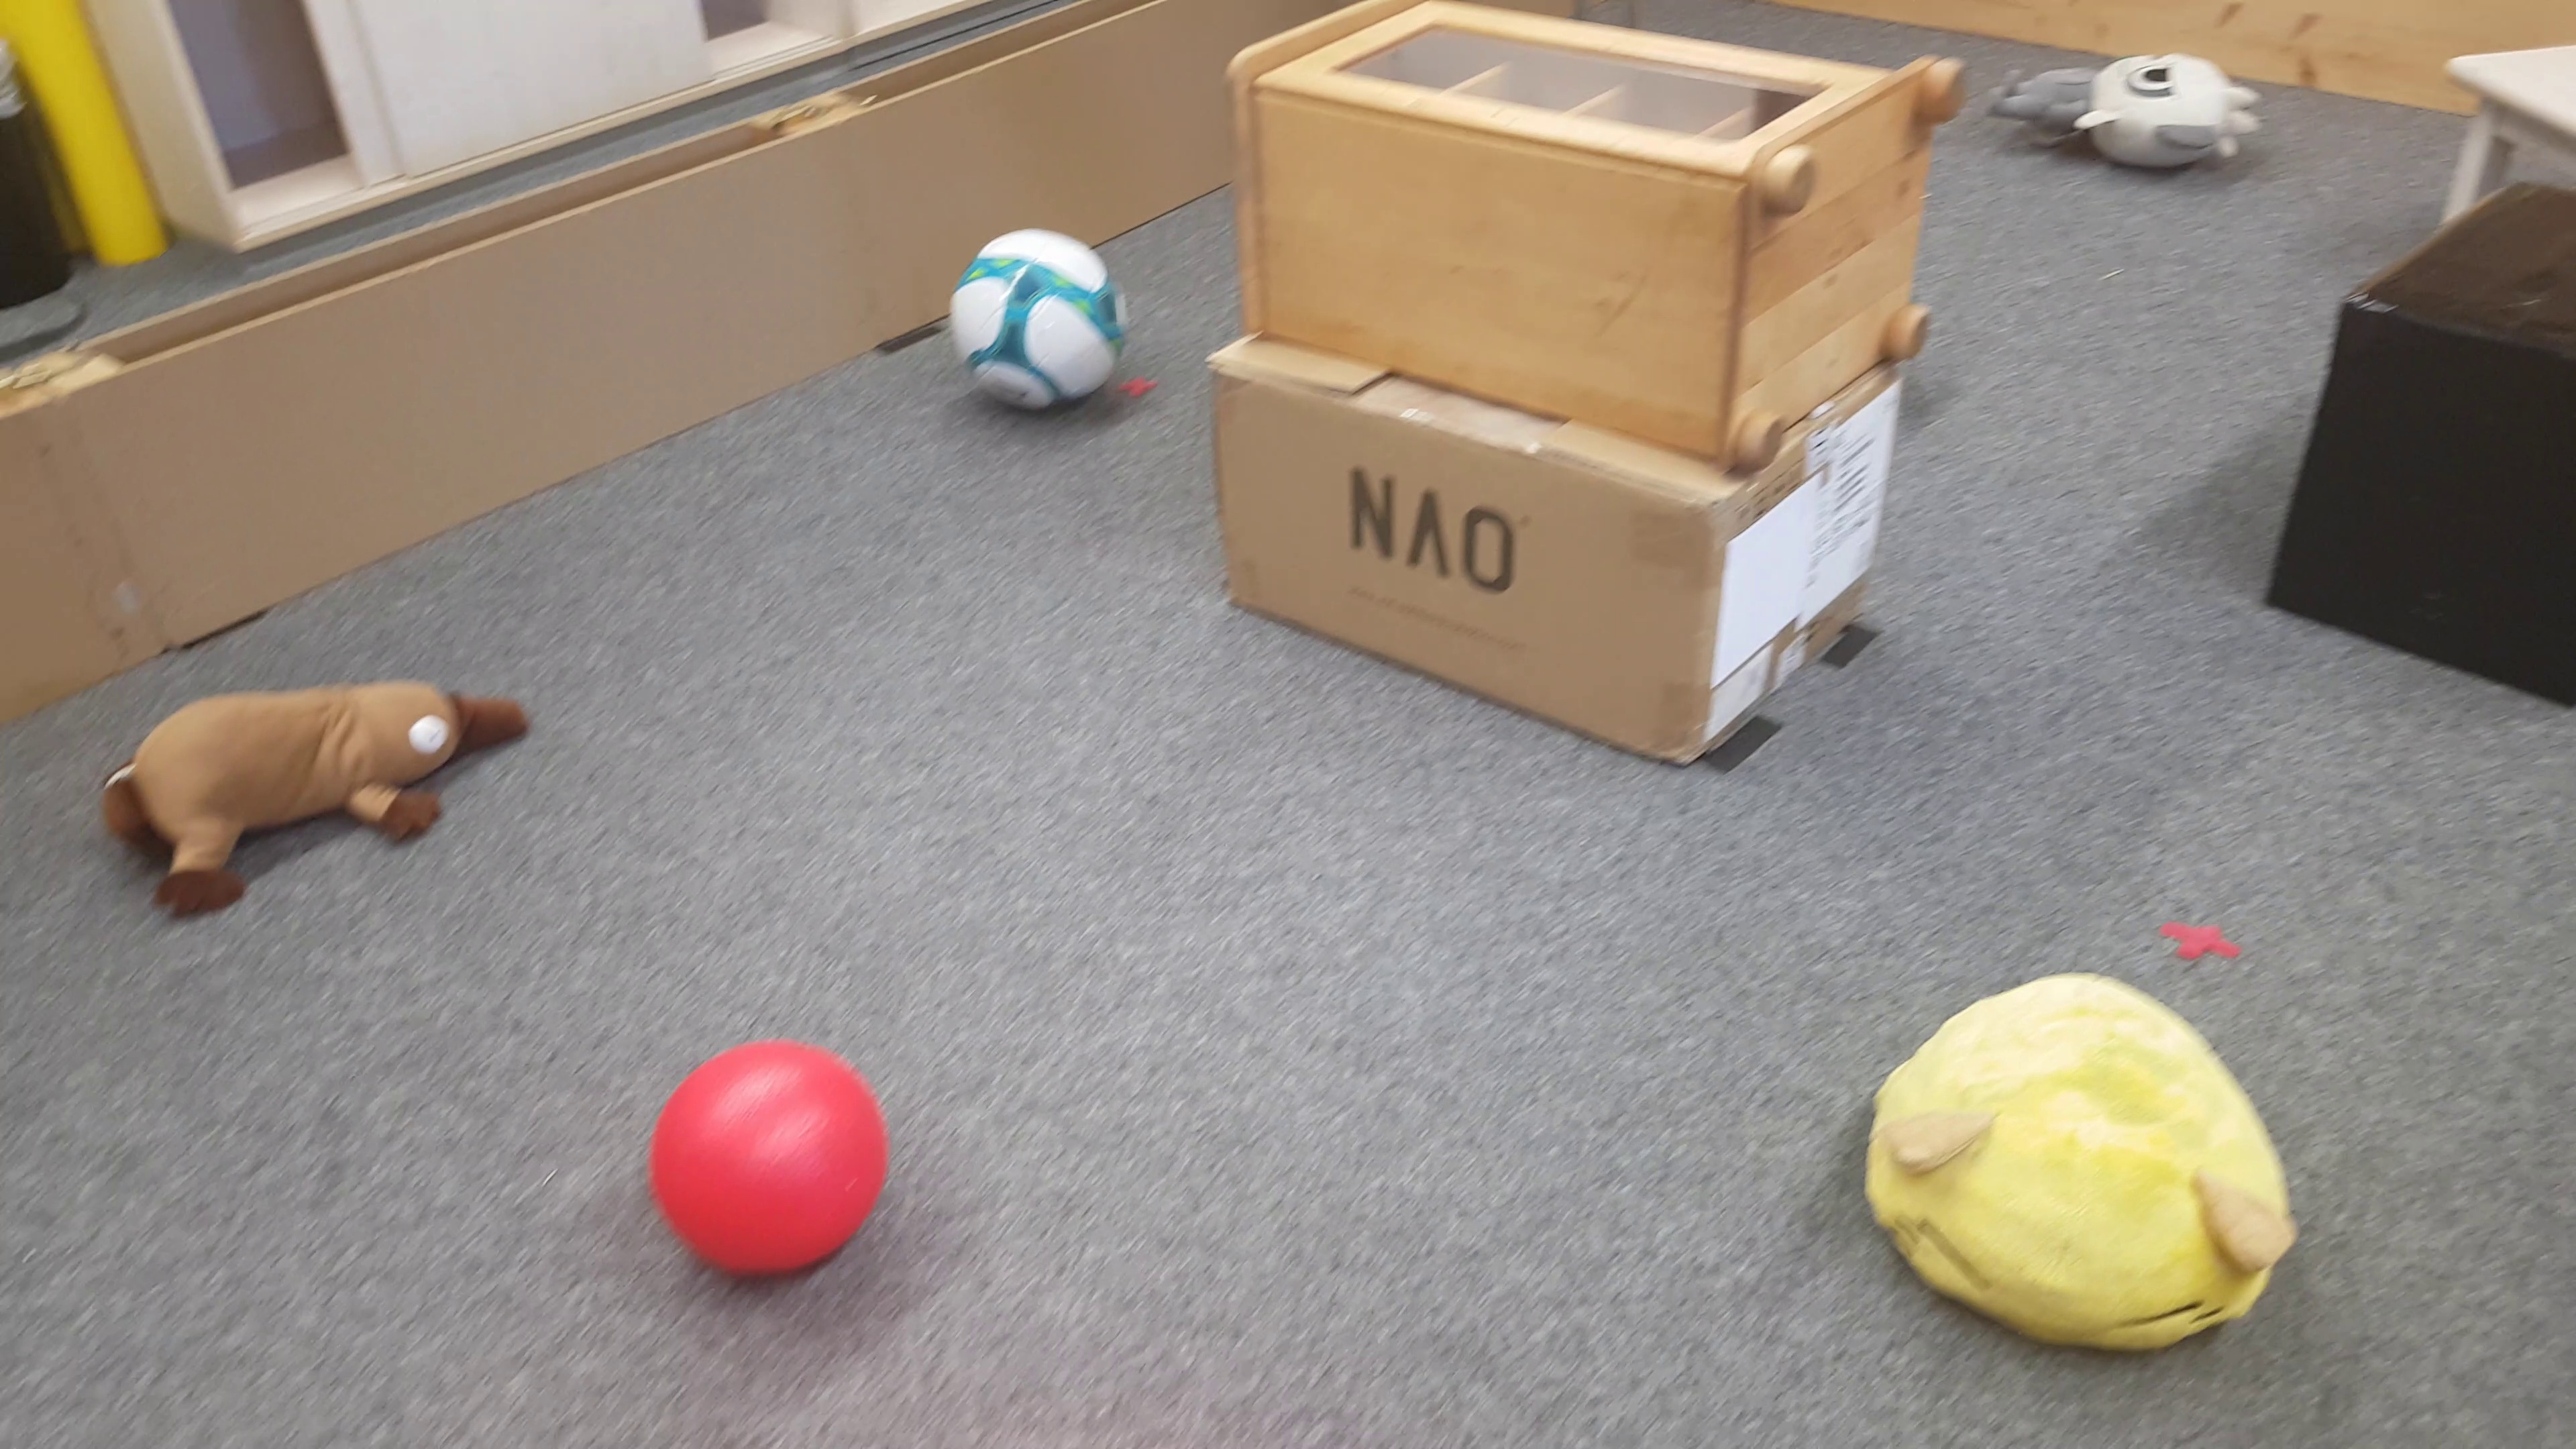grasp: (1865, 977, 2289, 1361), (106, 683, 525, 922), (1987, 53, 2259, 186)
kick: (658, 1035, 879, 1288), (950, 221, 1132, 416)
push: (2268, 177, 2576, 722)
